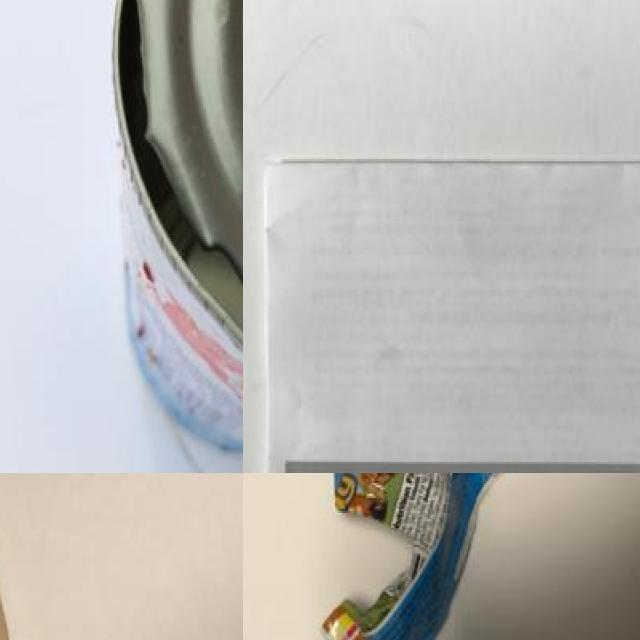paper: (271, 163, 640, 473)
plastic: (105, 0, 243, 444)
trash: (279, 473, 591, 640), (0, 473, 123, 640)
